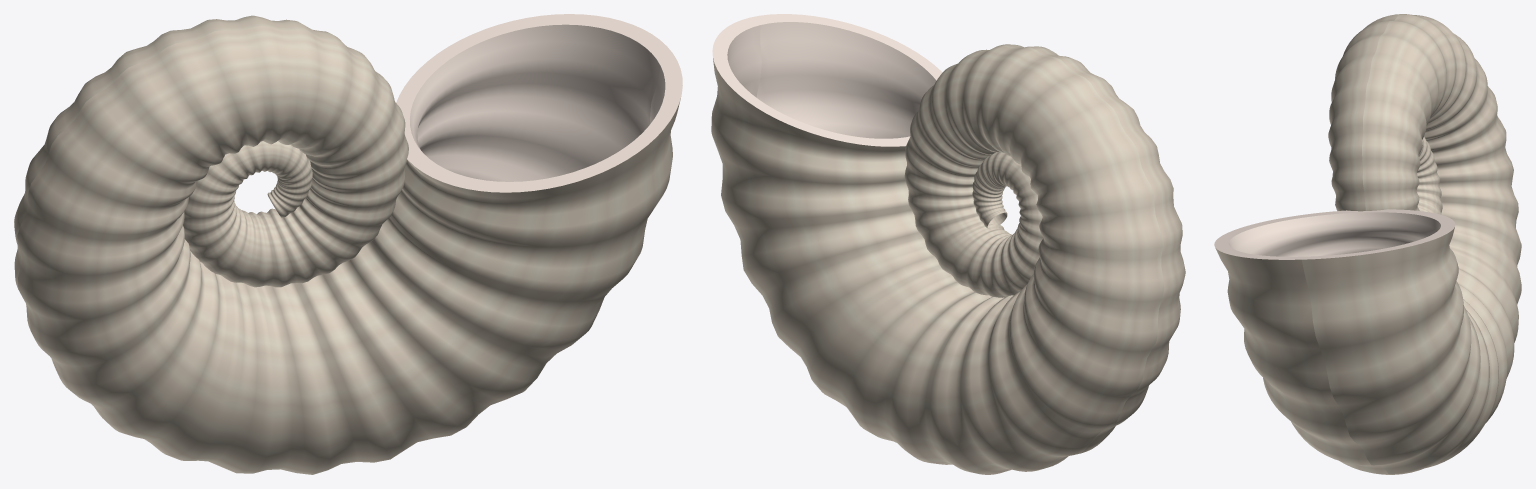
The model's file is paper-nautilus.glb.
The picture shows the model from 3 angles, left to right: view 1: azimuth 30°, elevation 25°; view 2: azimuth 150°, elevation 25°; view 3: azimuth 270°, elevation 25°; orthographic projection. The views are drawn at different scales.
Parts seen in each view (by area): view 1: paper-nautilus; view 2: paper-nautilus; view 3: paper-nautilus.
Boxes of the visible parts, box(x1,y1,x2,y2) form: paper-nautilus: box(14, 14, 682, 474); paper-nautilus: box(711, 14, 1185, 474); paper-nautilus: box(1214, 14, 1521, 474).
Size of the model in its own units: 1.92 by 1.51 by 1.09.
